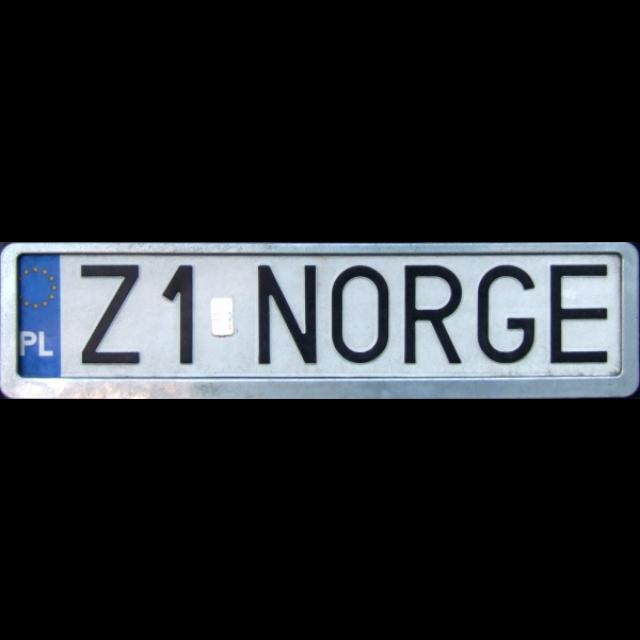pl_license_plate: (17, 253, 619, 374)
